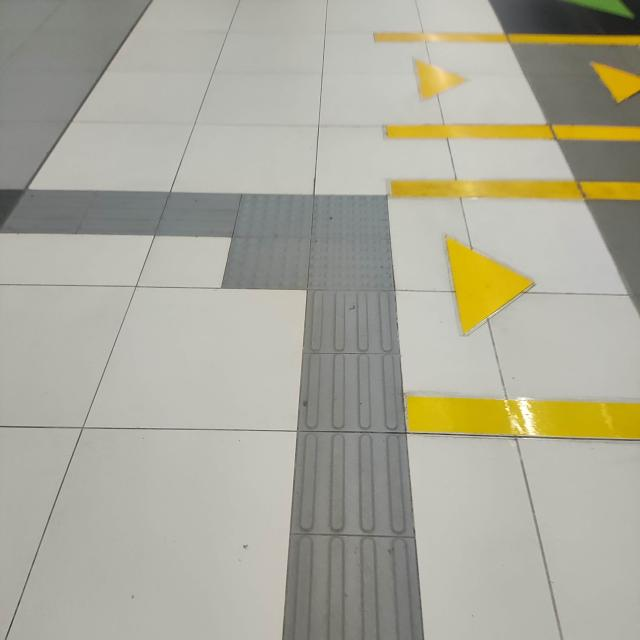kiri: (101, 153, 443, 347)
